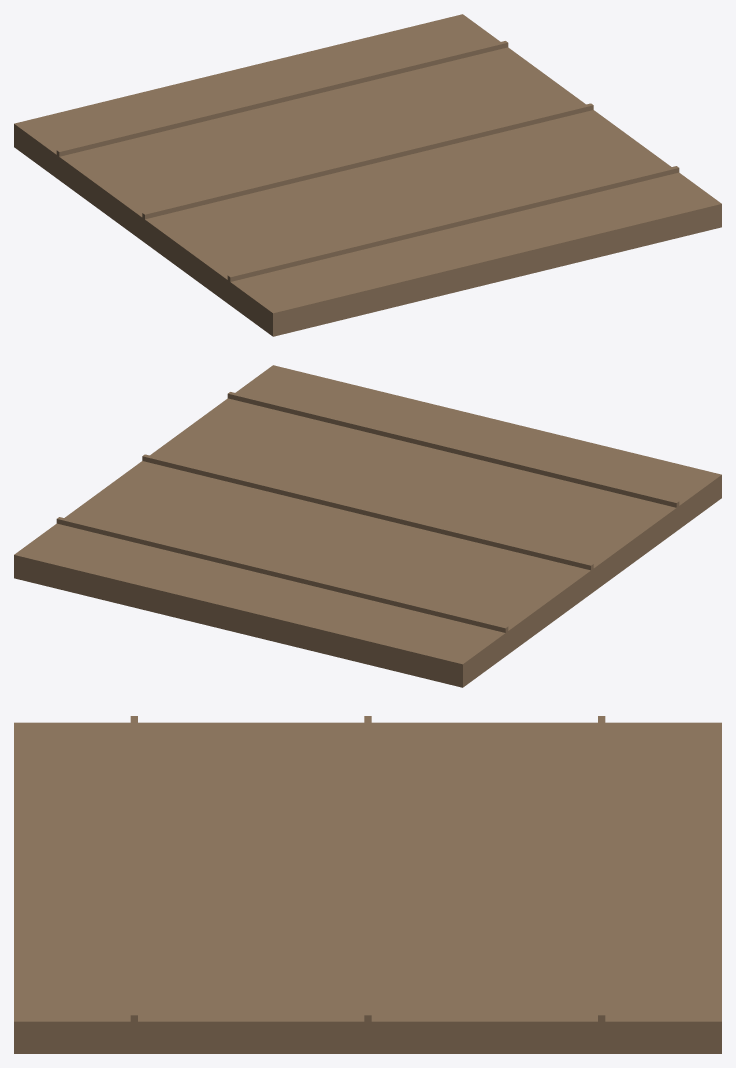
File: floor_wood.glb
The picture shows the model from 3 angles, top to bottom: view 1: azimuth 30°, elevation 25°; view 2: azimuth 150°, elevation 25°; view 3: azimuth 270°, elevation 25°; orthographic projection. The views are drawn at different scales.
Parts seen in each view (by area): view 1: floor_wood; view 2: floor_wood; view 3: floor_wood.
Part boxes in pixels (x1,y1,x2,y2): floor_wood: (14,14,721,336); floor_wood: (14,365,721,687); floor_wood: (14,716,721,1053).
Size of the model in its own units: 1 by 0.06 by 1.
